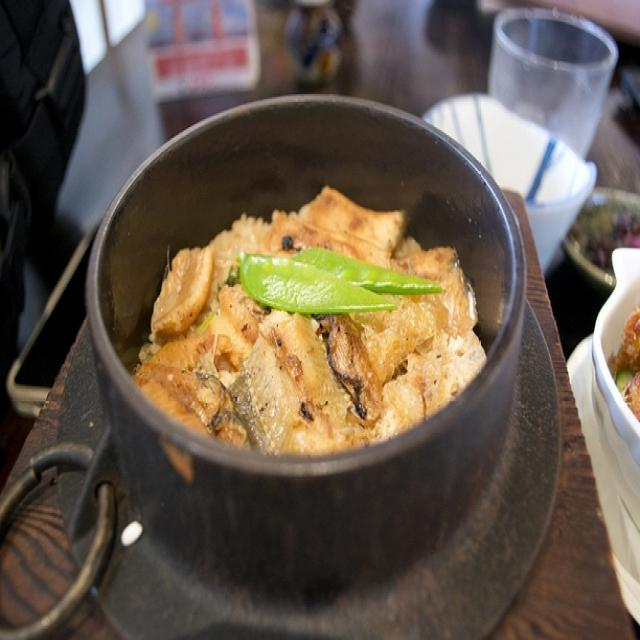汤锅炖物: (29, 56, 604, 562)
